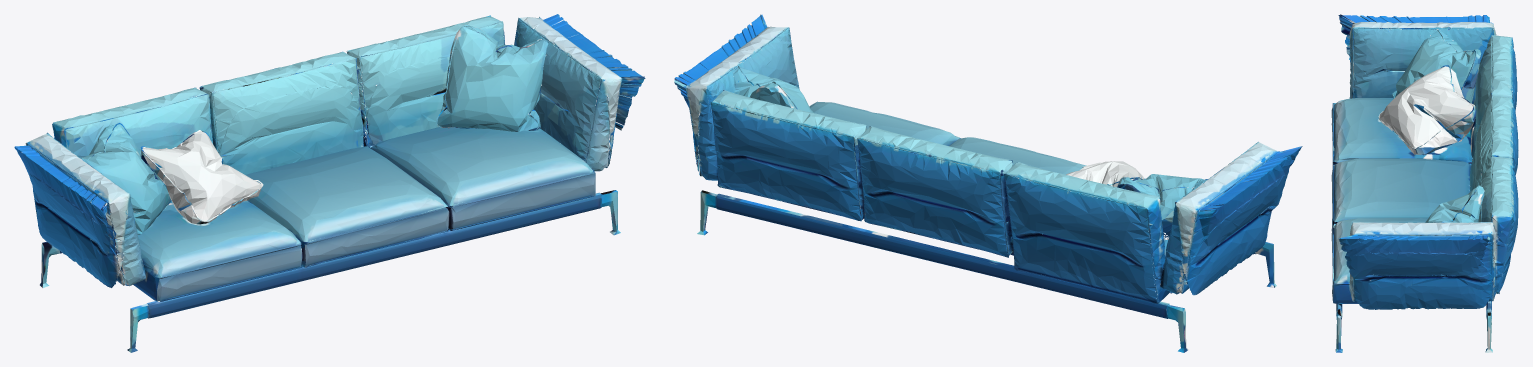
The model's file is edited_mesh.glb.
The picture shows the model from 3 angles, left to right: view 1: azimuth 30°, elevation 25°; view 2: azimuth 150°, elevation 25°; view 3: azimuth 270°, elevation 25°; orthographic projection. The views are drawn at different scales.
Visible parts, largest first — view 1: solid_001_wire; view 2: solid_001_wire; view 3: solid_001_wire.
Part boxes in pixels (left/top/right/bottom): solid_001_wire: left=14, top=14, right=645, bottom=352; solid_001_wire: left=674, top=14, right=1302, bottom=352; solid_001_wire: left=1331, top=14, right=1518, bottom=352.
Bounding box in the file's own units: 2 × 0.577 × 0.7051.
Materials: 1 (1 with a texture image).
